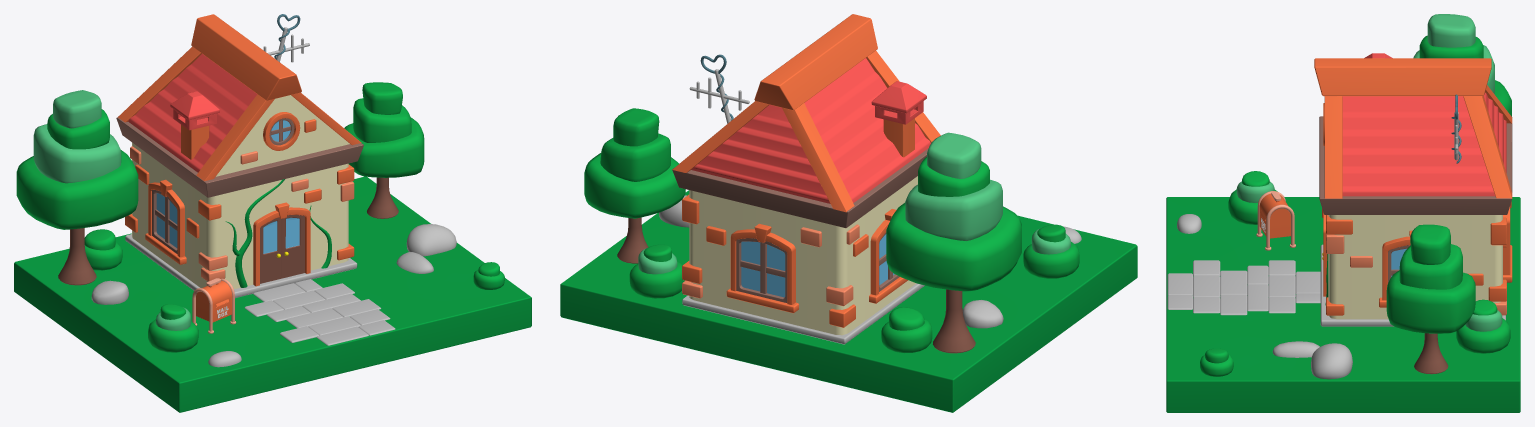
File: Town_Island_4.glb
3 renders of one model, left to right at view 1: azimuth 30°, elevation 25°; view 2: azimuth 150°, elevation 25°; view 3: azimuth 270°, elevation 25°, orthographic. The views are drawn at different scales.
Visible parts, largest first — view 1: Town_4_House_1, Town_4_Base_1, Town_4_Tree_1, Town_4_Tree_2, Town_4_Path_1, Town_4_Bush_4, Town_4_Mail_Box_1, Town_4_Bush_2, Town_4_Stone_1, Town_4_Stone_4, Town_4_Bush_3, Town_4_Antenna_1 (+1 smaller); view 2: Town_4_House_1, Town_4_Base_1, Town_4_Tree_1, Town_4_Tree_2, Town_4_Bush_4, Town_4_Bush_1, Town_4_Bush_2, Town_4_Antenna_1, Town_4_Stone_4; view 3: Town_4_House_1, Town_4_Base_1, Town_4_Tree_2, Town_4_Path_1, Town_4_Tree_1, Town_4_Bush_1, Town_4_Mail_Box_1, Town_4_Bush_4, Town_4_Stone_1, Town_4_Bush_3, Town_4_Stone_2, Town_4_Stone_3 (+1 smaller).
Part boxes in pixels (x1,y1,x2,y2): Town_4_House_1: (116,14,363,297); Town_4_Base_1: (14,176,531,412); Town_4_Tree_1: (16,90,138,285); Town_4_Tree_2: (344,82,424,218); Town_4_Path_1: (245,279,395,345); Town_4_Bush_4: (148,304,198,352); Town_4_Mail_Box_1: (192,278,236,333); Town_4_Bush_2: (84,229,122,270); Town_4_Stone_1: (406,224,456,256); Town_4_Stone_4: (91,280,128,304); Town_4_Bush_3: (473,262,504,289); Town_4_Antenna_1: (263,14,309,62); Town_4_House_1: (672,14,940,344); Town_4_Base_1: (560,190,1137,412); Town_4_Tree_1: (886,132,1021,353); Town_4_Tree_2: (584,108,685,263); Town_4_Bush_4: (1023,224,1079,278); Town_4_Bush_1: (629,244,684,298); Town_4_Bush_2: (881,307,932,352); Town_4_Antenna_1: (689,54,749,123); Town_4_Stone_4: (962,300,1003,328); Town_4_House_1: (1314,53,1512,326); Town_4_Base_1: (1166,197,1520,412); Town_4_Tree_2: (1386,224,1475,374); Town_4_Path_1: (1167,260,1320,315); Town_4_Tree_1: (1413,14,1511,116); Town_4_Bush_1: (1456,299,1510,353); Town_4_Mail_Box_1: (1256,191,1295,250); Town_4_Bush_4: (1228,171,1277,224); Town_4_Stone_1: (1311,343,1352,379); Town_4_Bush_3: (1200,348,1233,376); Town_4_Stone_2: (1272,341,1319,357); Town_4_Stone_3: (1177,214,1201,233).
Size of the model in its own units: 14.84 by 9.06 by 11.2.
Materials: 15 (15 with a texture image).
